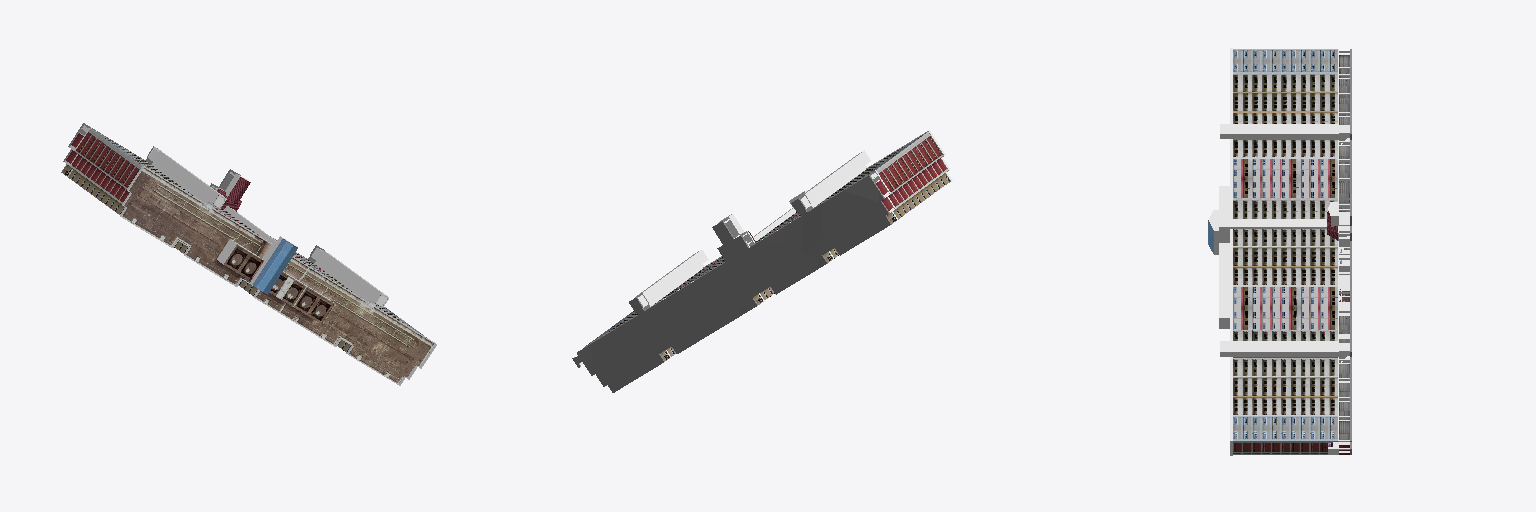
The picture shows the model from 3 angles: view 1: azimuth 30°, elevation 25°; view 2: azimuth 150°, elevation 25°; view 3: azimuth 270°, elevation 25°; orthographic projection.
Visible parts, largest first — view 1: polygon.801; view 2: polygon.801; view 3: polygon.801.
Boxes of the visible parts, x1=… form: polygon.801: x1=61, y1=123, x2=436, y2=385; polygon.801: x1=572, y1=130, x2=952, y2=392; polygon.801: x1=1208, y1=48, x2=1351, y2=455.
Bounding box in the file's own units: 105 × 88.28 × 40.58.
Materials: 1 (1 with a texture image).